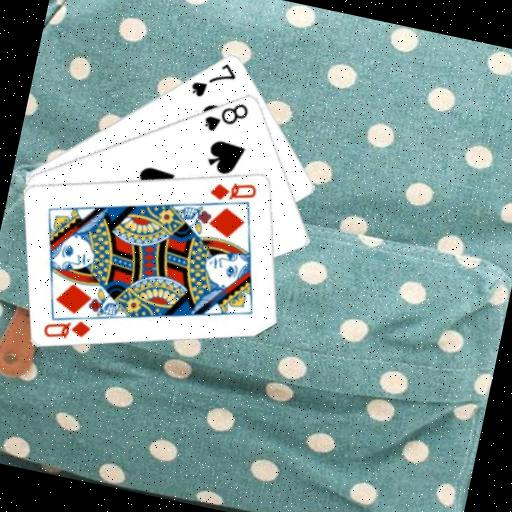7S: (186, 53, 240, 105)
8S: (199, 93, 252, 139)
QD: (39, 309, 95, 347), (205, 172, 260, 209)
